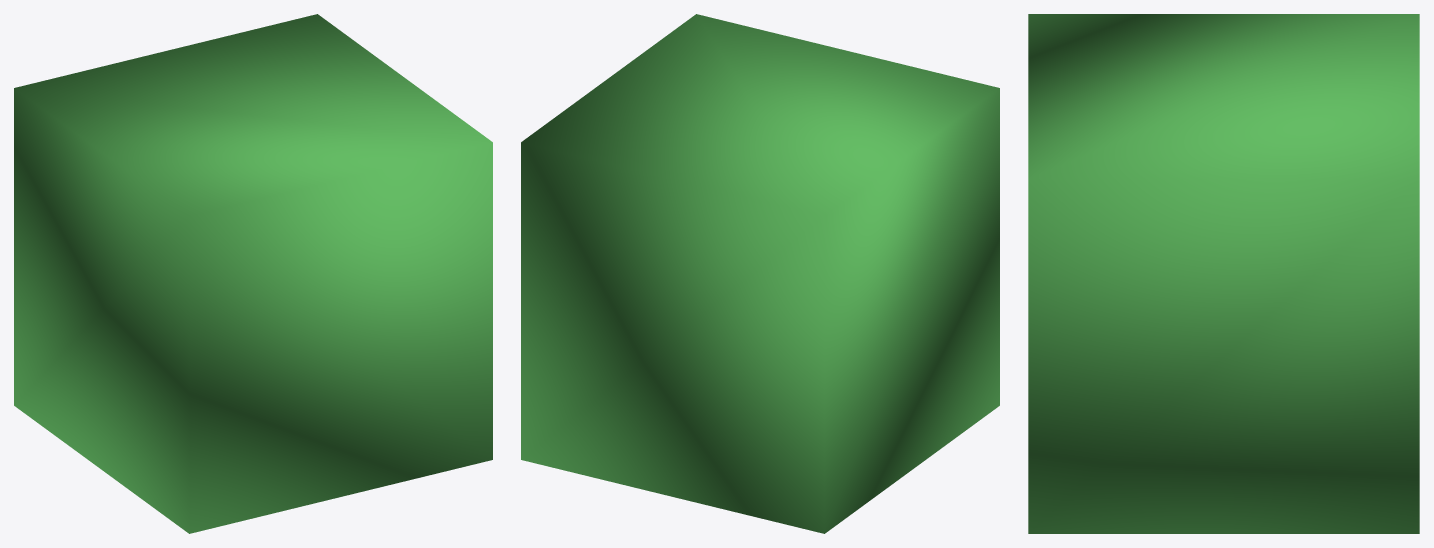
The model's file is expected.gltf.
3 views of the same model, side by side, from view 1: azimuth 30°, elevation 25°; view 2: azimuth 150°, elevation 25°; view 3: azimuth 270°, elevation 25° (orthographic). The views are drawn at different scales.
Bounding box in the file's own units: 30 × 30 × 30.
